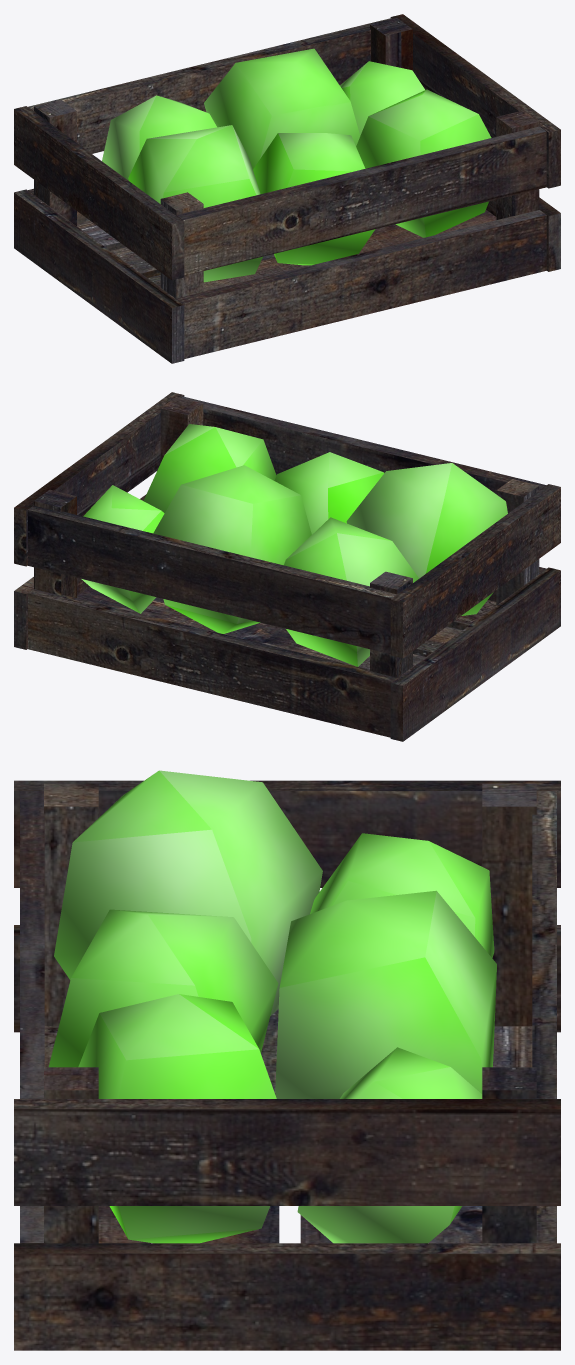
The model's file is bigcrate.fbx.
The picture shows the model from 3 angles, top to bottom: view 1: azimuth 30°, elevation 25°; view 2: azimuth 150°, elevation 25°; view 3: azimuth 270°, elevation 25°; orthographic projection. The views are drawn at different scales.
Visible parts, largest first — view 1: Box.001; view 2: Box.001; view 3: Box.001.
Boxes of the visible parts, box(x1,y1,x2,y2) form: Box.001: box(14, 14, 560, 363); Box.001: box(14, 392, 560, 741); Box.001: box(14, 770, 560, 1350).
Bounding box in the file's own units: 0.6471 × 0.2826 × 0.4551.
Materials: 2 (2 with a texture image).
